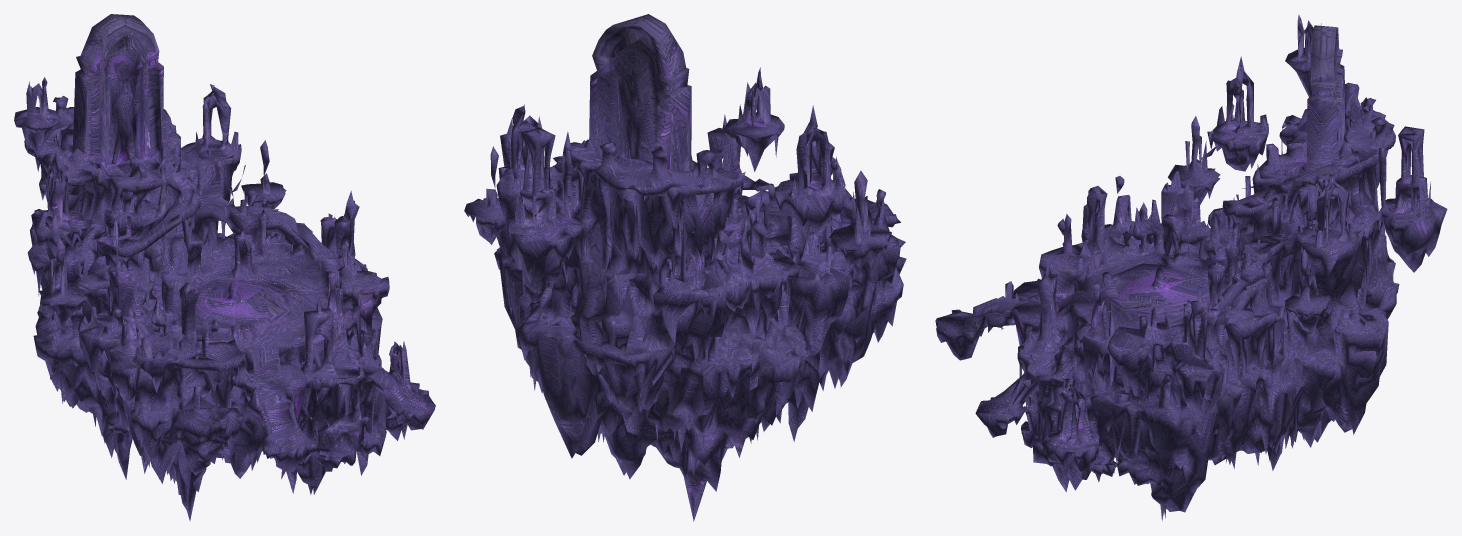
Rendered from Violet_Sanctum_of_the.glb.
3 renders of one model, left to right at view 1: azimuth 30°, elevation 25°; view 2: azimuth 150°, elevation 25°; view 3: azimuth 270°, elevation 25°, orthographic. The views are drawn at different scales.
Visible parts, largest first — view 1: Violet_Sanctum_of_the; view 2: Violet_Sanctum_of_the; view 3: Violet_Sanctum_of_the.
Part boxes in pixels (x1,y1,x2,y2): Violet_Sanctum_of_the: (14,14,435,521); Violet_Sanctum_of_the: (464,14,906,521); Violet_Sanctum_of_the: (935,14,1447,521).
Size of the model in its own units: 1.46 by 1.85 by 1.9.
Materials: 1 (1 with a texture image).
